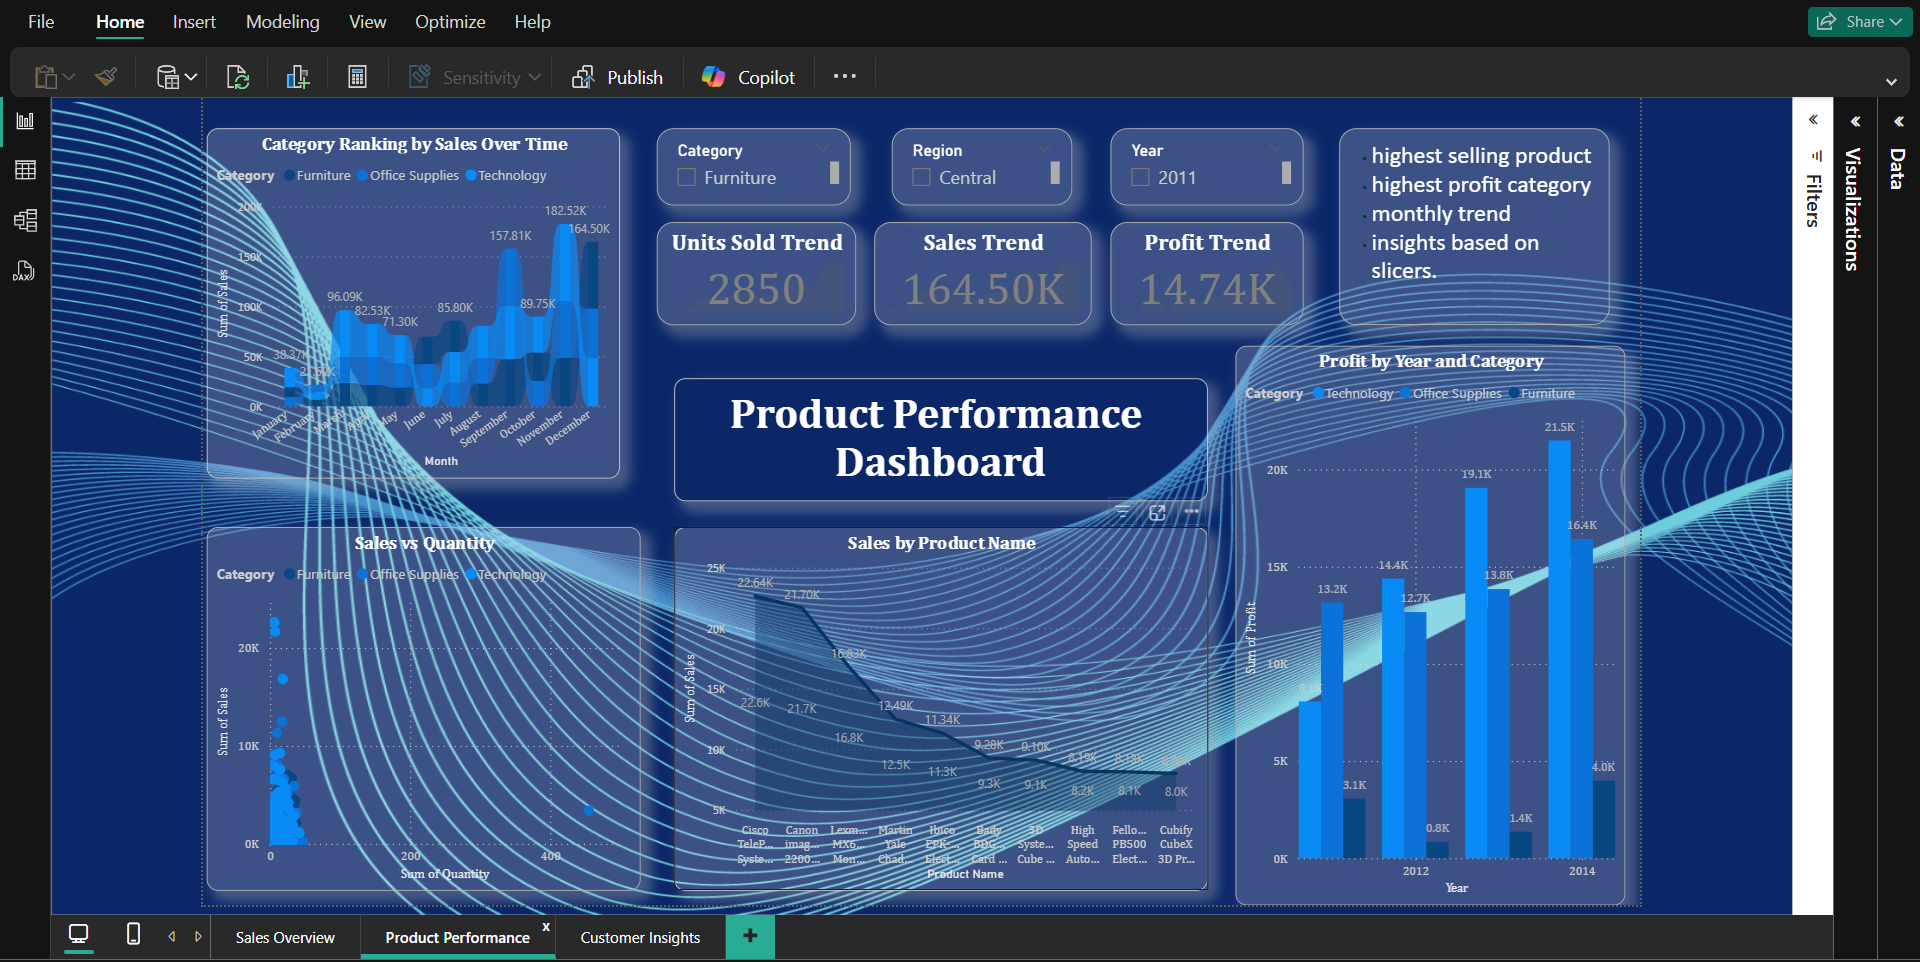

This screenshot's page, from the dashboard's own definition file:
{"tool":"powerbi","page":{"name":"Product Performance","canvas":[1280,720],"ordinal":1},"visuals":[{"type":"slicer","fields":{"Values":["Orders.Category"]},"box":[403.7,28.2,173,68.7],"z":0},{"type":"slicer","fields":{"Values":["Orders.Order Date.Variation.Date Hierarchy.Year"]},"box":[808.6,28.2,171.8,68.7],"z":1000},{"type":"slicer","fields":{"Values":["Orders.Region"]},"box":[613.5,28.2,160.7,68.7],"z":2000},{"type":"kpi","title":"Sales Trend","fields":{"Indicator":["Sum(Orders.Sales)"],"TrendLine":["Orders.Order Date.Variation.Date Hierarchy.Month"]},"box":[597.5,111.7,193.9,92],"z":3000},{"type":"kpi","title":"Units Sold Trend","fields":{"Indicator":["Sum(Orders.Quantity)"],"TrendLine":["Orders.Order Date.Variation.Date Hierarchy.Month"]},"box":[403.7,111.7,177.9,92],"z":4000},{"type":"kpi","title":"Profit Trend","fields":{"Indicator":["Sum(Orders.Profit)"],"TrendLine":["Orders.Order Date.Variation.Date Hierarchy.Month"]},"box":[808.6,111.7,171.8,92],"z":5000},{"type":"ribbonChart","title":"Category Ranking by Sales Over Time","fields":{"Y":["Sum(Orders.Sales)"],"Category":["Orders.Order Date.Variation.Date Hierarchy.Month"],"Series":["Orders.Category"]},"box":[3.7,28.2,368.1,311.7],"z":6000},{"type":"stackedAreaChart","title":"Sales by Product Name","fields":{"Y":["Sum(Orders.Sales)"],"Category":["Orders.Product Name"]},"box":[419.6,382.8,474.8,323.9],"z":7000},{"type":"clusteredColumnChart","title":" Profit by Year and Category","fields":{"Y":["Sum(Orders.Profit)"],"Series":["Orders.Category"],"Category":["Orders.Order Date.Variation.Date Hierarchy.Year"]},"box":[919,221.8,347.2,498.2],"z":8000},{"type":"scatterChart","title":"Sales vs Quantity","fields":{"Category":["Orders.Product Name"],"Series":["Orders.Category"],"X":["Sum(Orders.Quantity)"],"Y":["Sum(Orders.Sales)"]},"box":[3.7,382.8,386.5,323.9],"z":9000},{"type":"textbox","box":[1012.3,28.2,240.5,175.5],"z":10000},{"type":"textbox","box":[419.6,250.3,474.8,109.2],"z":11000}]}

Visuals, with their boxes on the page's 1280x720 design canvas (x1, y1, x2, y2). These are canvas units, not pixel positions in the 1920x962 screenshot, which may show the page scaled, cropped or inside an application window:
slicer - Orders.Category: 404/28/577/97
slicer - Orders.Order Date.Variation.Date Hierarchy.Year: 809/28/980/97
slicer - Orders.Region: 614/28/774/97
"Sales Trend" kpi: 598/112/791/204
"Units Sold Trend" kpi: 404/112/582/204
"Profit Trend" kpi: 809/112/980/204
"Category Ranking by Sales Over Time" ribbonChart: 4/28/372/340
"Sales by Product Name" stackedAreaChart: 420/383/894/707
" Profit by Year and Category" clusteredColumnChart: 919/222/1266/720
"Sales vs Quantity" scatterChart: 4/383/390/707
textbox: 1012/28/1253/204
textbox: 420/250/894/360
